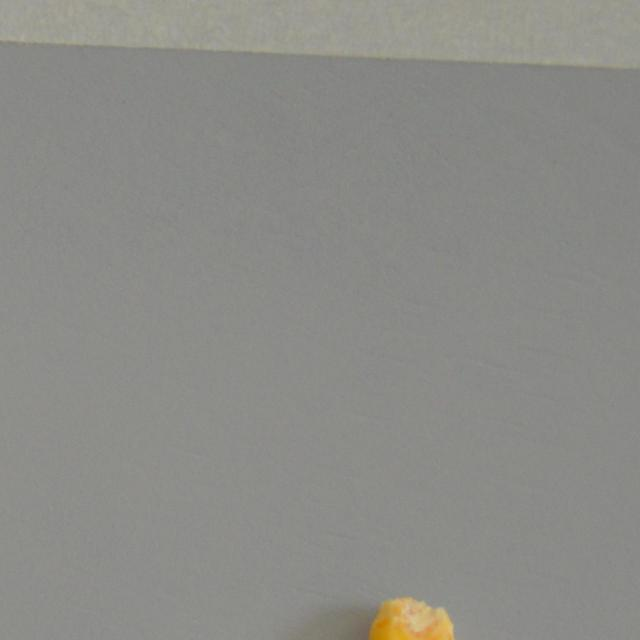pelicula: (366, 596, 456, 640)
